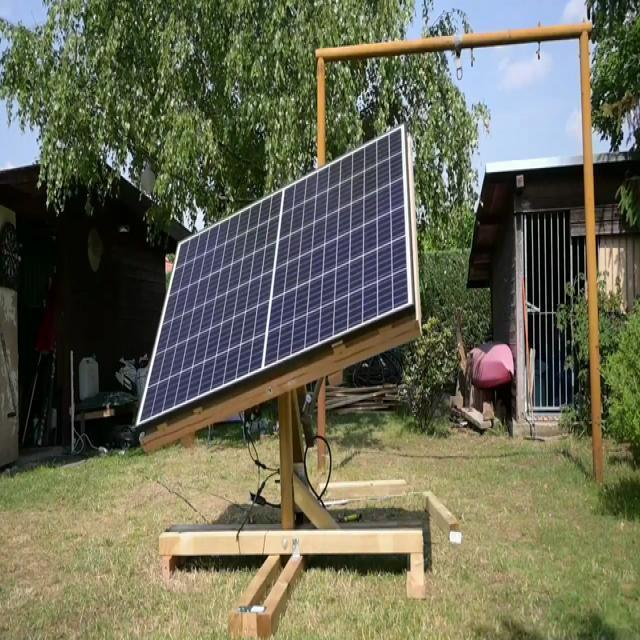Normal Solar Panel: (138, 127, 410, 428)
